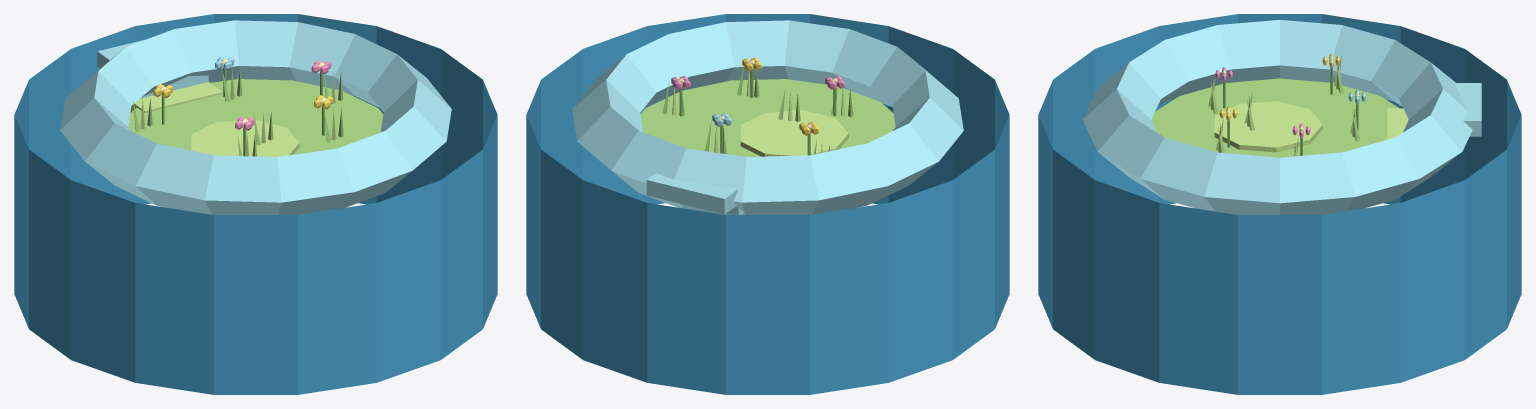
File: meadow.glb
The picture shows the model from 3 angles, left to right: view 1: azimuth 30°, elevation 25°; view 2: azimuth 150°, elevation 25°; view 3: azimuth 270°, elevation 25°; orthographic projection.
Parts seen in each view (by area): view 1: MEADOW_CraterWall, MEADOW_IceRim, MEADOW_GrassFloor, MEADOW_InnerGrassPatch, MEADOW_Step_2; view 2: MEADOW_CraterWall, MEADOW_IceRim, MEADOW_GrassFloor, MEADOW_InnerGrassPatch, MEADOW_Step_0; view 3: MEADOW_CraterWall, MEADOW_IceRim, MEADOW_GrassFloor, MEADOW_InnerGrassPatch, MEADOW_Step_0, MEADOW_Step_2.
Part boxes in pixels (x1,y1,x2,y2): MEADOW_CraterWall: (14,14,497,394); MEADOW_IceRim: (60,20,451,214); MEADOW_GrassFloor: (128,79,383,154); MEADOW_InnerGrassPatch: (191,120,299,156); MEADOW_Step_2: (130,82,222,112); MEADOW_CraterWall: (526,14,1009,394); MEADOW_IceRim: (572,20,963,214); MEADOW_GrassFloor: (640,79,895,156); MEADOW_InnerGrassPatch: (740,110,848,156); MEADOW_Step_0: (646,173,737,214); MEADOW_CraterWall: (1038,14,1521,394); MEADOW_IceRim: (1082,19,1472,214); MEADOW_GrassFloor: (1151,78,1398,157); MEADOW_InnerGrassPatch: (1214,101,1322,152); MEADOW_Step_0: (1455,83,1481,136); MEADOW_Step_2: (1387,108,1408,139).
Size of the model in its own units: 4.43 by 2.12 by 4.5.
